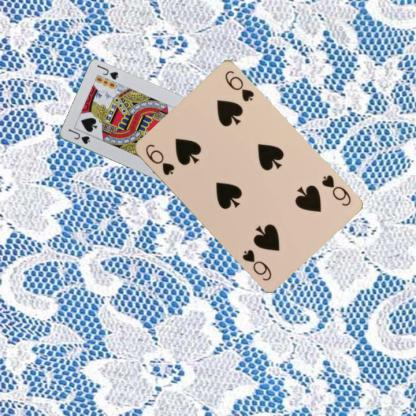6s: (142, 141, 176, 177), (318, 172, 352, 208)
Js: (65, 126, 91, 146)
